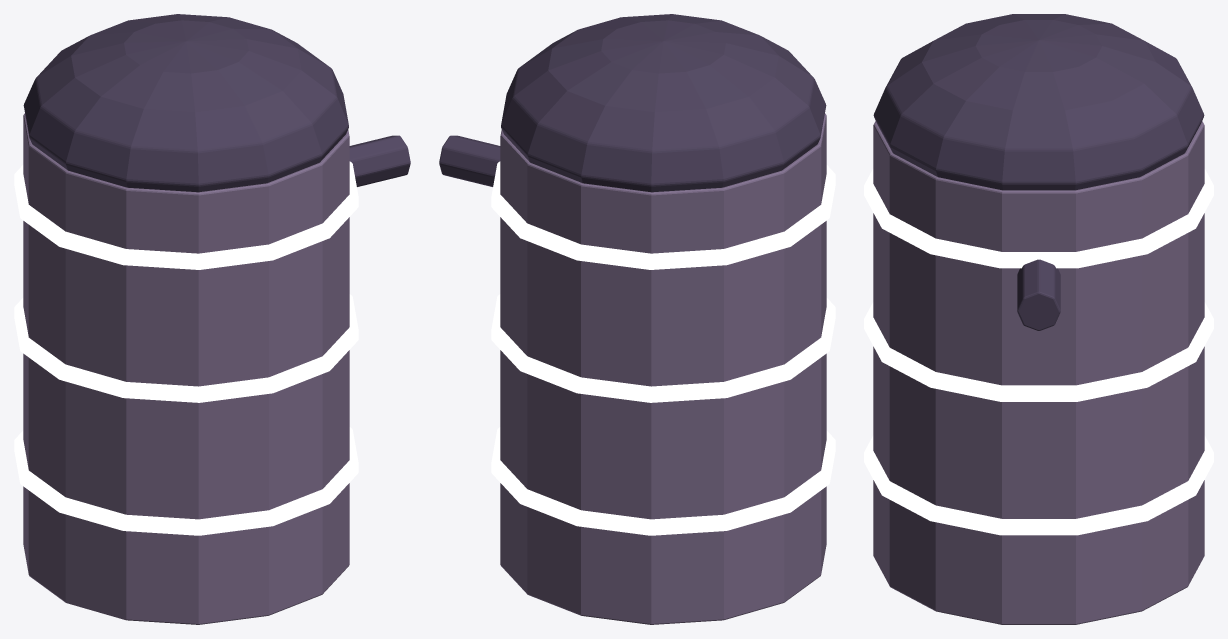
Rendered from SM_Labor_Tank.fbx.
3 renders of one model, left to right at view 1: azimuth 30°, elevation 25°; view 2: azimuth 150°, elevation 25°; view 3: azimuth 270°, elevation 25°, orthographic.
Visible parts, largest first — view 1: SM_Labor_Tank; view 2: SM_Labor_Tank; view 3: SM_Labor_Tank.
Part boxes in pixels (bbox=[...]): SM_Labor_Tank: bbox=[14, 14, 410, 624]; SM_Labor_Tank: bbox=[439, 14, 835, 624]; SM_Labor_Tank: bbox=[864, 14, 1213, 624].
Bounding box in the file's own units: 2.28 × 3.1 × 1.9.
